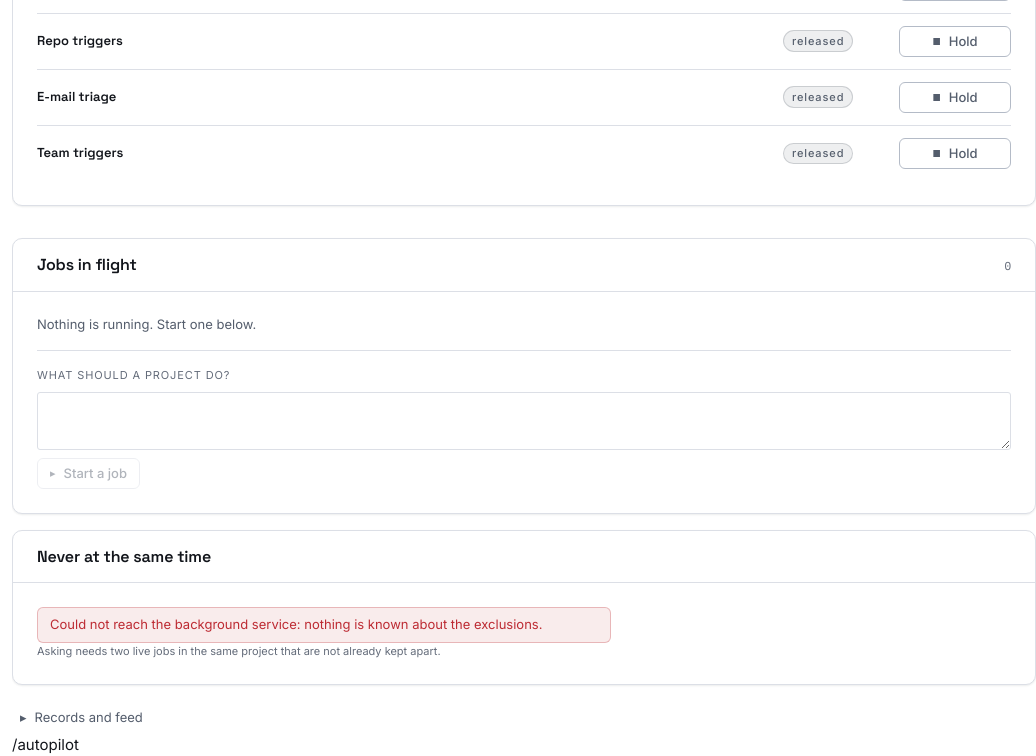
Test: Autopilot - the overnight and barrier records › falls back without going blank when the run no longer resolves
The width and height of the screenshot is (1036, 756).
(page scrolled)
Step 1. Click the button "Records and feed" → (81, 717), box [12, 701, 151, 733]
(page scrolled)
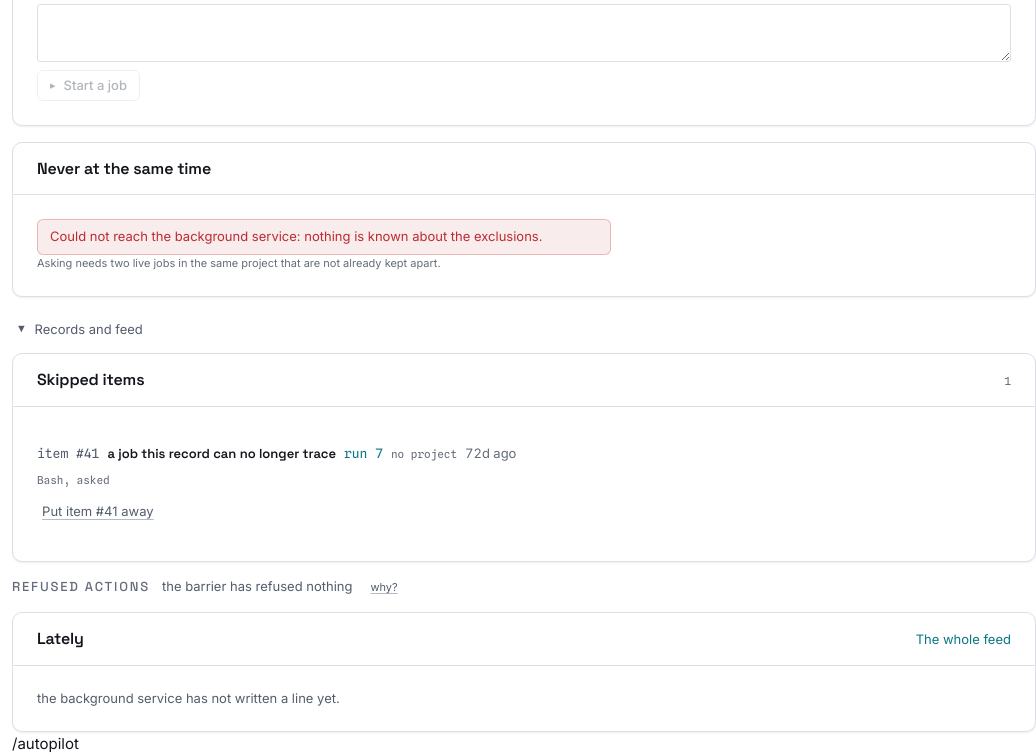
Expected: the text "a job this record can no longer trace" is shown, [107, 444, 336, 464]
Expected: the text "Bash" is shown, [37, 473, 63, 487]
